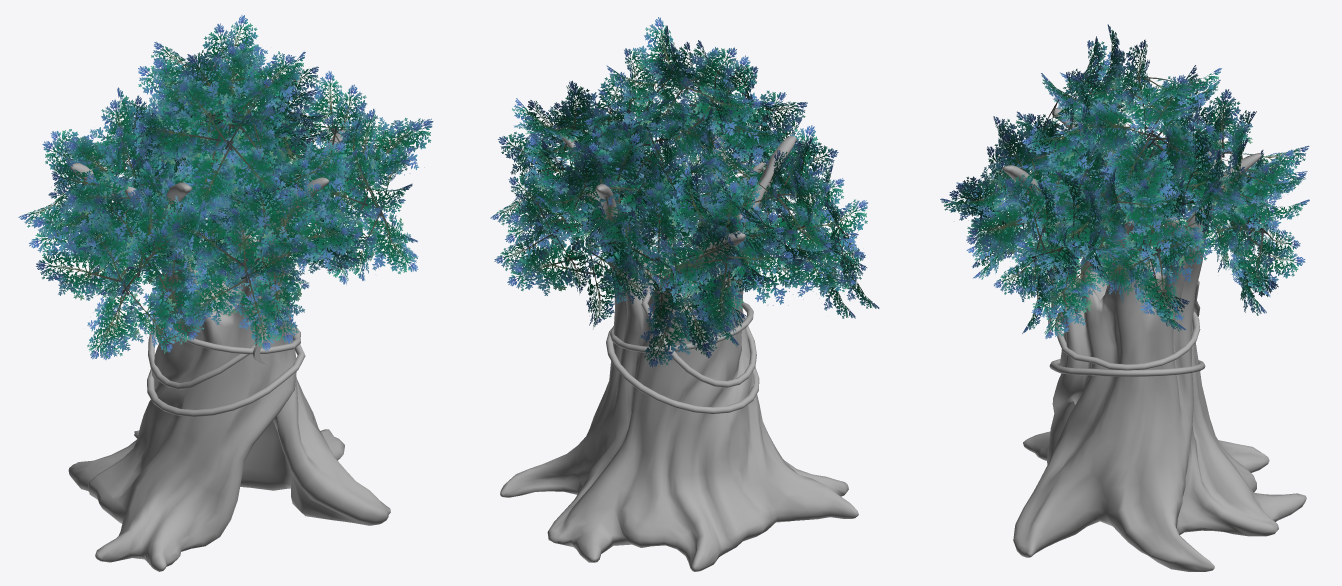
File: Env_ScelledTree_2.fbx
3 views of the same model, side by side, from view 1: azimuth 30°, elevation 25°; view 2: azimuth 150°, elevation 25°; view 3: azimuth 270°, elevation 25° (orthographic). The views are drawn at different scales.
Parts seen in each view (by area): view 1: Env_Leaf_ScelledTree, pCylinder4; view 2: Env_Leaf_ScelledTree, pCylinder4; view 3: Env_Leaf_ScelledTree, pCylinder4.
Boxes of the visible parts, left/top/right/bottom form: Env_Leaf_ScelledTree: left=18, top=15, right=433, bottom=359; pCylinder4: left=68, top=91, right=390, bottom=571; Env_Leaf_ScelledTree: left=490, top=17, right=879, bottom=367; pCylinder4: left=500, top=95, right=858, bottom=571; Env_Leaf_ScelledTree: left=940, top=24, right=1309, bottom=338; pCylinder4: left=1002, top=108, right=1306, bottom=571.
Size of the model in its own units: 867 by 1026 by 778.
